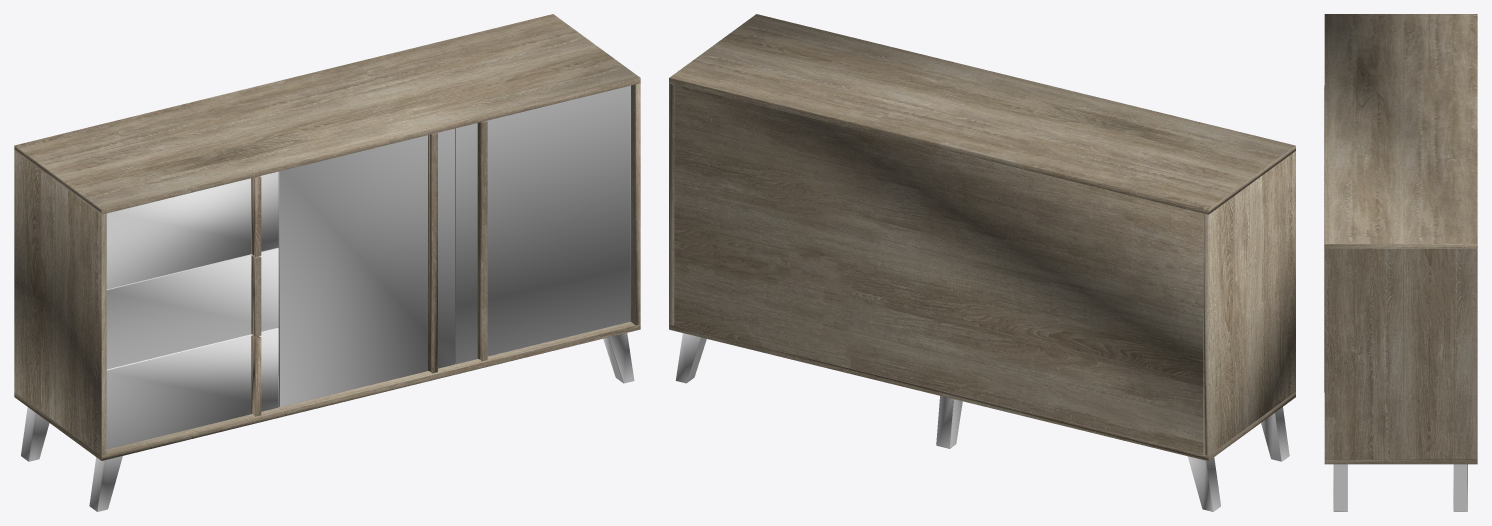
3 views of the same model, side by side, from view 1: azimuth 30°, elevation 25°; view 2: azimuth 150°, elevation 25°; view 3: azimuth 270°, elevation 25° (orthographic). The views are drawn at different scales.
Visible parts, largest first — view 1: RootNode; view 2: RootNode; view 3: RootNode.
Part boxes in pixels (x1,y1,x2,y2): RootNode: (14, 14, 640, 511); RootNode: (669, 14, 1295, 511); RootNode: (1324, 14, 1477, 511).
Size of the model in its own units: 1.6 by 0.87 by 0.4501.
1 material, 1 textured.
